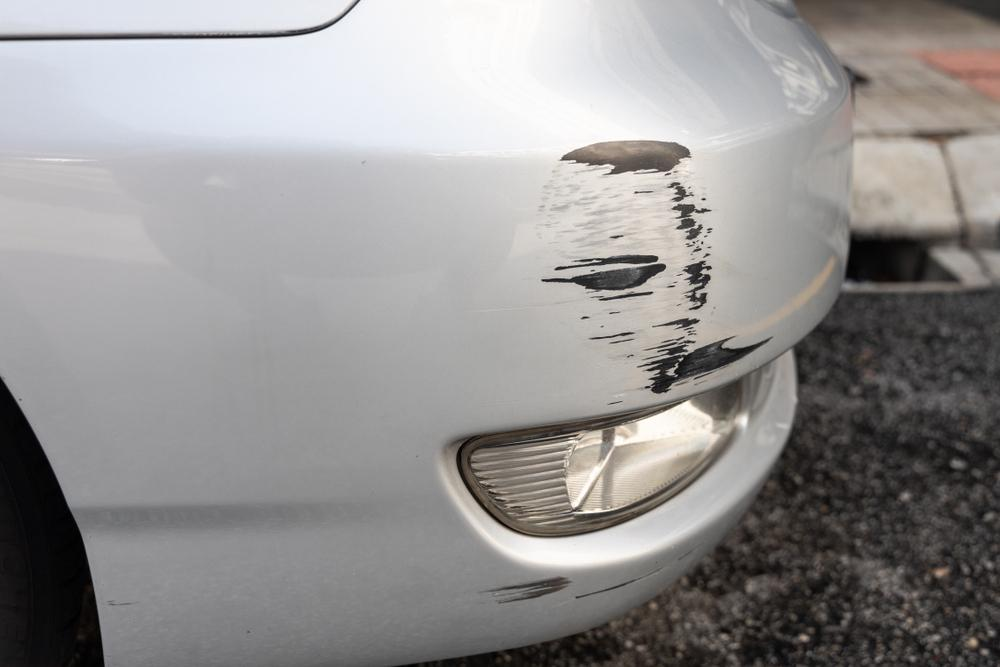scratch: (530, 135, 785, 402), (470, 548, 693, 611)
